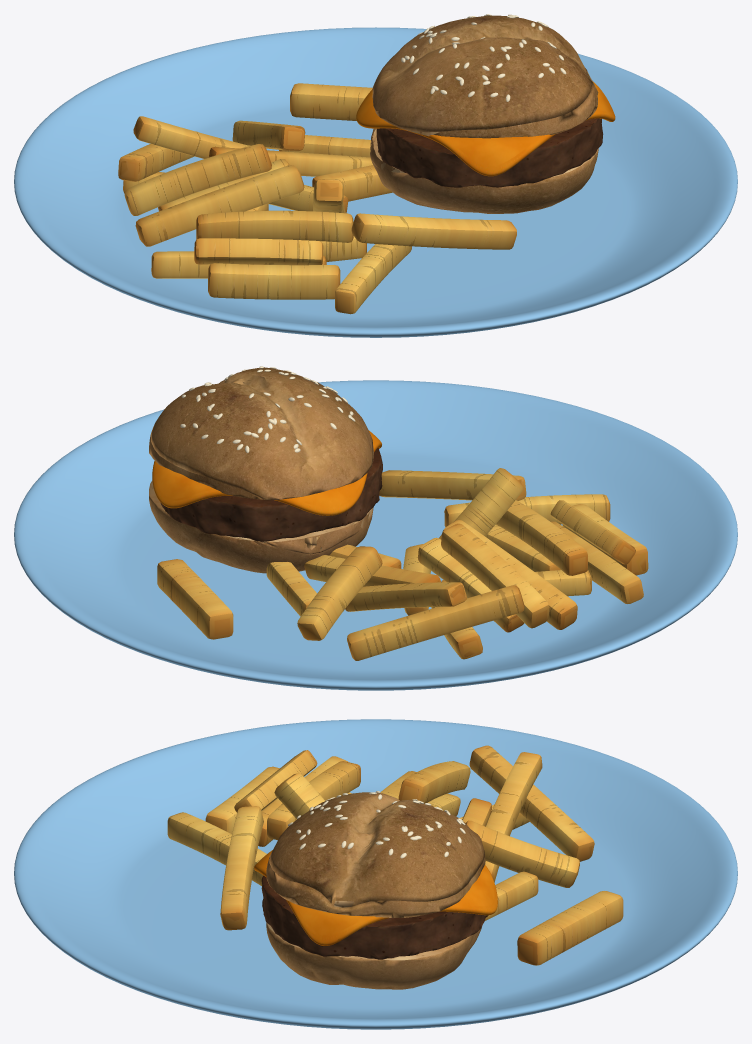
The model's file is kids-burger.glb.
3 renders of one model, top to bottom at view 1: azimuth 30°, elevation 25°; view 2: azimuth 150°, elevation 25°; view 3: azimuth 270°, elevation 25°, orthographic.
Visible parts, largest first — view 1: base, kids-fries, kids-bun-top, kids-patty, kids-bun-bottom, kids-cheese; view 2: base, kids-fries, kids-bun-top, kids-patty, kids-bun-bottom, kids-cheese; view 3: base, kids-fries, kids-bun-top, kids-patty, kids-bun-bottom, kids-cheese.
Boxes of the visible parts, box(x1,y1,x2,y2) form: base: box(14, 27, 737, 337); kids-fries: box(118, 83, 516, 314); kids-bun-top: box(372, 14, 598, 138); kids-patty: box(376, 118, 603, 187); kids-bun-bottom: box(370, 128, 598, 213); kids-cheese: box(356, 81, 615, 176); base: box(14, 380, 737, 690); kids-fries: box(157, 468, 648, 660); kids-bun-top: box(149, 366, 373, 499); kids-patty: box(160, 447, 382, 541); kids-bun-bottom: box(149, 480, 373, 573); kids-cheese: box(152, 430, 381, 515); base: box(14, 719, 737, 1029); kids-fries: box(167, 745, 623, 965); kids-bun-top: box(266, 791, 485, 917); kids-patty: box(261, 875, 488, 959); kids-bun-bottom: box(266, 922, 481, 989); kids-cheese: box(254, 850, 497, 945).
Size of the model in its own units: 0.258 by 0.0689 by 0.258.
Materials: 8 (6 with a texture image).
